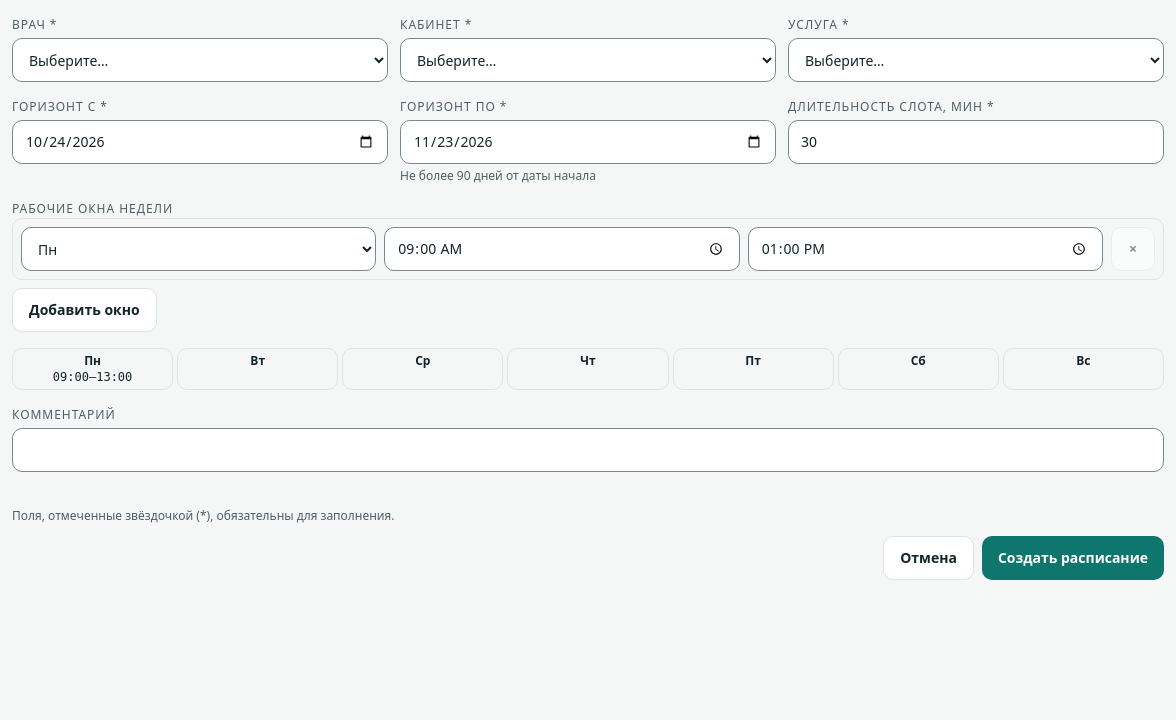
Test: ScheduleEditor (create) › should follow the default duration of the chosen service when the admin has not typed a duration
Select "Приём терапевта" in the dropdown labelled "Услуга *" at (976, 60), box top-left (788, 38), bottom-right (1164, 82)
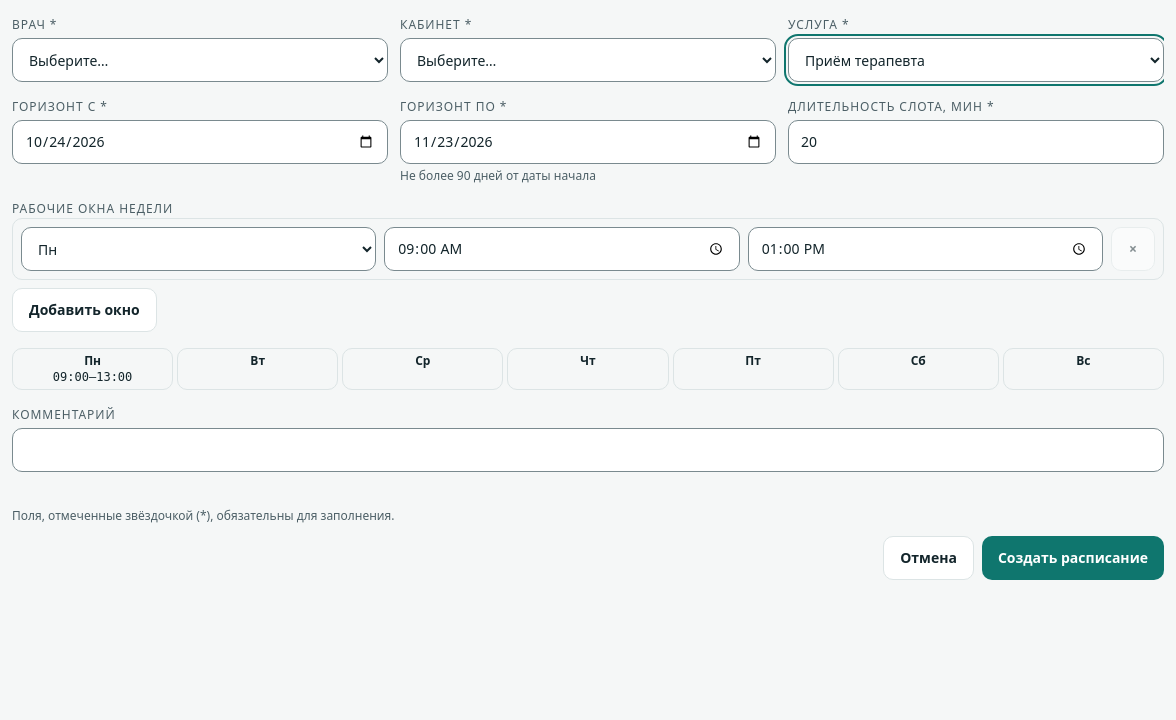
Now the number field labelled "Длительность слота, мин *" holds "20", box top-left (788, 120), bottom-right (1164, 164)
